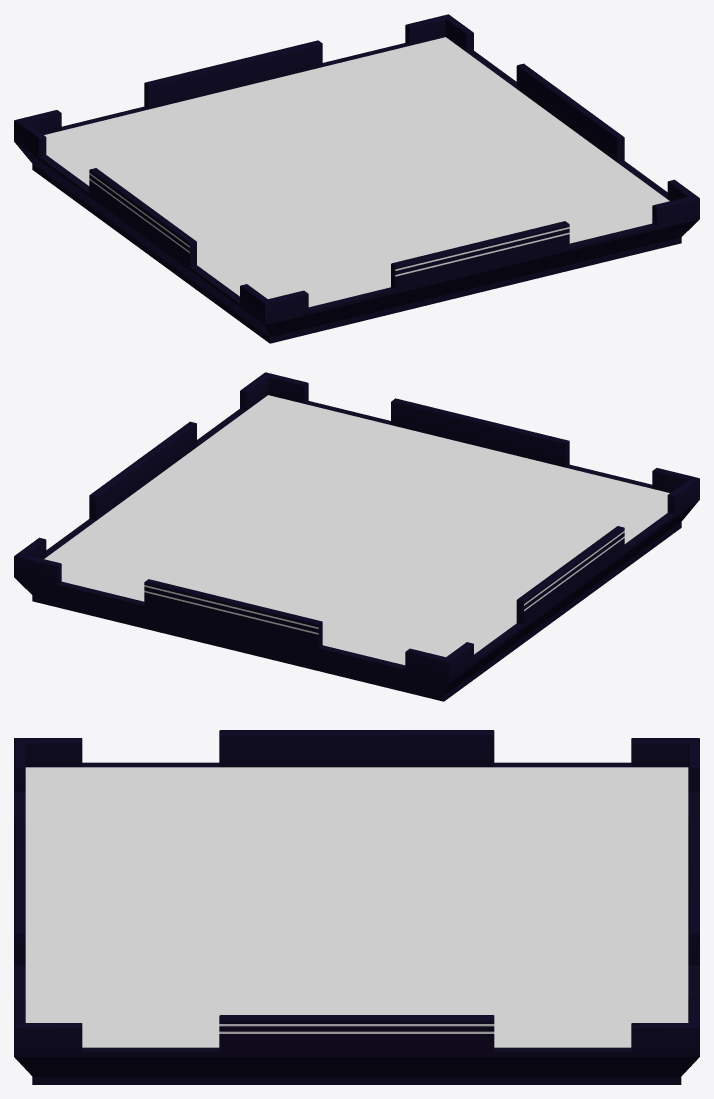
The picture shows the model from 3 angles, top to bottom: view 1: azimuth 30°, elevation 25°; view 2: azimuth 150°, elevation 25°; view 3: azimuth 270°, elevation 25°; orthographic projection. The views are drawn at different scales.
Parts seen in each view (by area): view 1: BASE 2X2; view 2: BASE 2X2; view 3: BASE 2X2.
Part boxes in pixels (x1,y1,x2,y2): BASE 2X2: [14, 14, 699, 343]; BASE 2X2: [14, 372, 699, 701]; BASE 2X2: [14, 730, 699, 1084].
Size of the model in its own units: 30.07 by 3.54 by 30.08.
